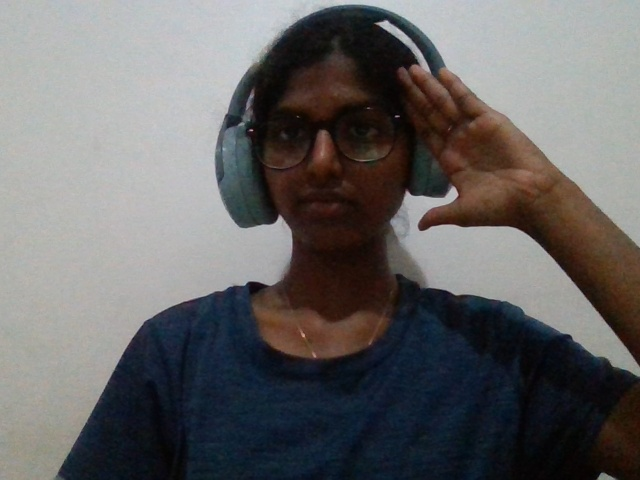Hello: (368, 45, 582, 286)
